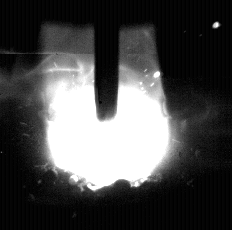arame: (95, 0, 120, 122)
poca: (45, 0, 171, 230)
